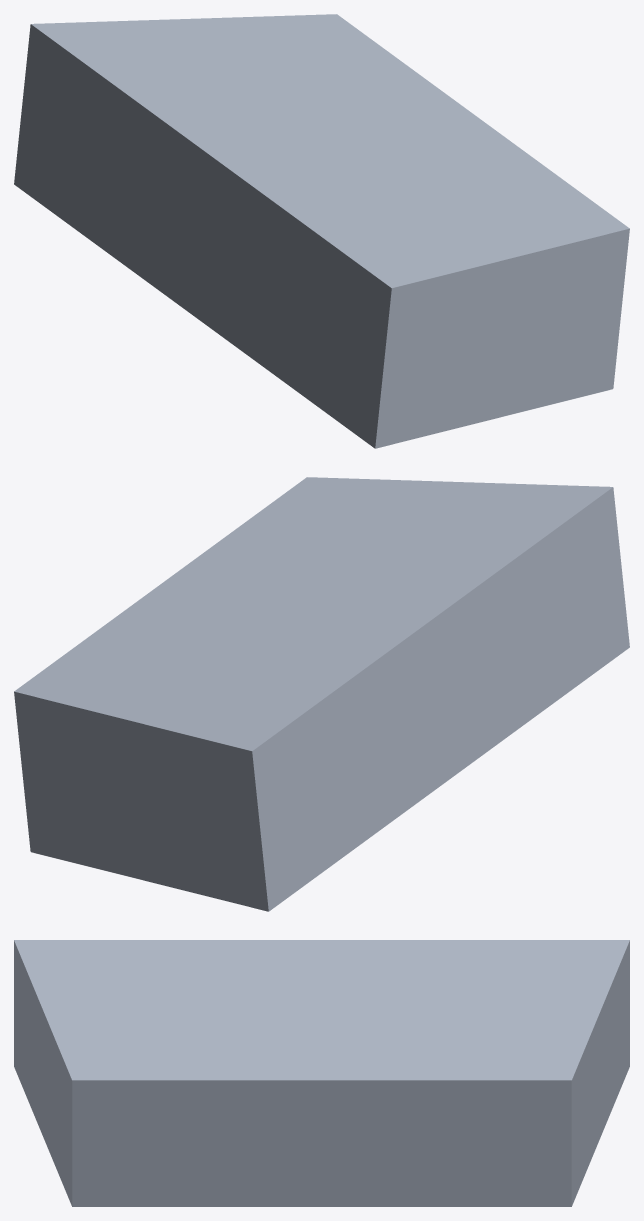
File: Car2.glb
3 renders of one model, top to bottom at view 1: azimuth 30°, elevation 25°; view 2: azimuth 150°, elevation 25°; view 3: azimuth 270°, elevation 25°, orthographic. The views are drawn at different scales.
Parts seen in each view (by area): view 1: Cube.113; view 2: Cube.113; view 3: Cube.113.
Part boxes in pixels (left/top/right/bottom): Cube.113: left=14, top=14, right=629, bottom=448; Cube.113: left=14, top=477, right=629, bottom=911; Cube.113: left=14, top=940, right=629, bottom=1206.
Bounding box in the file's own units: 0.0126 × 0.00786 × 0.0274.
Materials: 1 (1 with a texture image).
